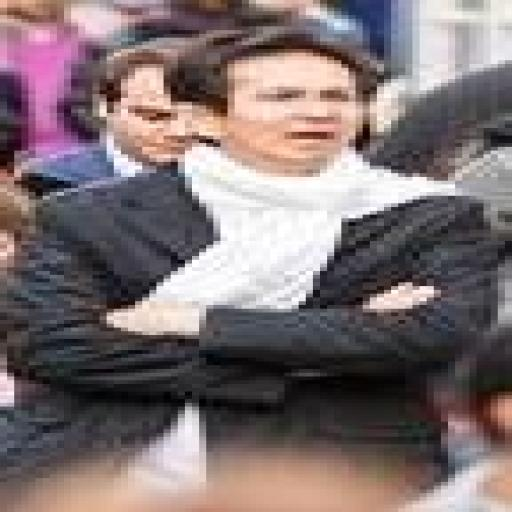person: (0, 27, 497, 485), (22, 38, 191, 195), (406, 324, 511, 511)
